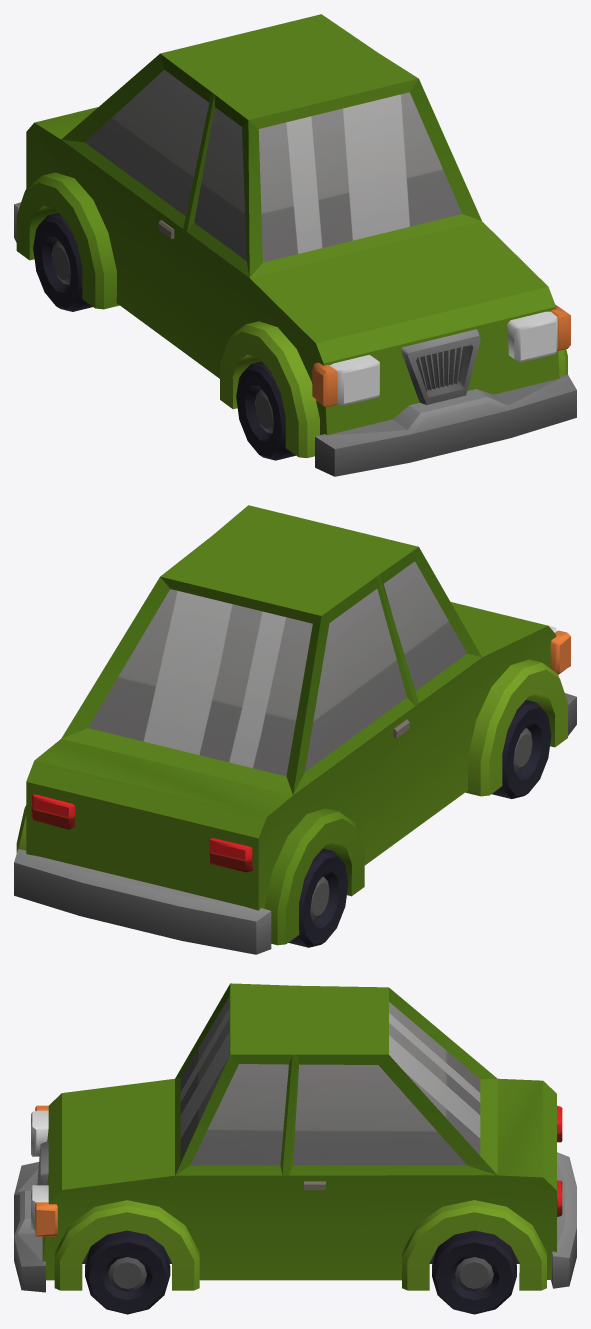
Rendered from Car_4_15.fbx.
3 renders of one model, top to bottom at view 1: azimuth 30°, elevation 25°; view 2: azimuth 150°, elevation 25°; view 3: azimuth 270°, elevation 25°, orthographic. The views are drawn at different scales.
Parts seen in each view (by area): view 1: Car_4_15, BWhel_FR, BWhel_BR; view 2: Car_4_15, BWhel_BR, BWhel_FR; view 3: Car_4_15, BWhel_FL, BWhel_BL.
Part boxes in pixels (left/top/right/bottom): Car_4_15: left=14, top=14, right=576, bottom=476; BWhel_FR: left=236, top=361, right=295, bottom=460; BWhel_BR: left=33, top=212, right=92, bottom=311; Car_4_15: left=14, top=505, right=576, bottom=954; BWhel_BR: left=288, top=848, right=348, bottom=947; BWhel_FR: left=491, top=700, right=551, bottom=798; Car_4_15: left=14, top=983, right=576, bottom=1292; BWhel_FL: left=85, top=1230, right=170, bottom=1314; BWhel_BL: left=432, top=1230, right=516, bottom=1314.
Bounding box in the file's own units: 109 × 109 × 230.
